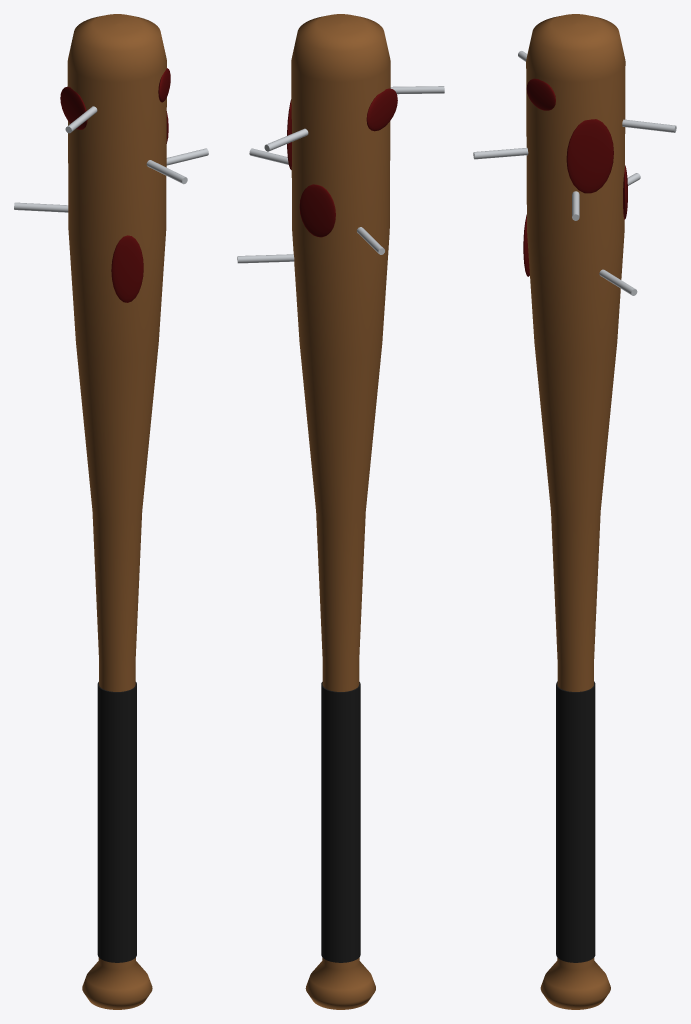
File: bate.glb
3 renders of one model, left to right at view 1: azimuth 30°, elevation 25°; view 2: azimuth 150°, elevation 25°; view 3: azimuth 270°, elevation 25°, orthographic.
Visible parts, largest first — view 1: bate, cinta_agarre, bate_sangre_4, bate_sangre_3; view 2: bate, cinta_agarre, bate_sangre_2, bate_sangre_3; view 3: bate, cinta_agarre, bate_sangre_1, bate_sangre_5.
Boxes of the visible parts, x1,y1,x2,y2 form: bate: (67,14,166,1009); cinta_agarre: (97,682,136,962); bate_sangre_4: (111,235,143,302); bate_sangre_3: (60,86,87,129); bate: (291,14,390,1009); cinta_agarre: (321,682,360,962); bate_sangre_2: (299,184,335,237); bate_sangre_3: (366,88,397,131); bate: (526,14,625,1009); cinta_agarre: (556,681,595,962); bate_sangre_1: (566,119,613,193); bate_sangre_5: (526,78,555,110).
Bounding box in the file's own units: 0.4668 × 2.6 × 0.4906.
